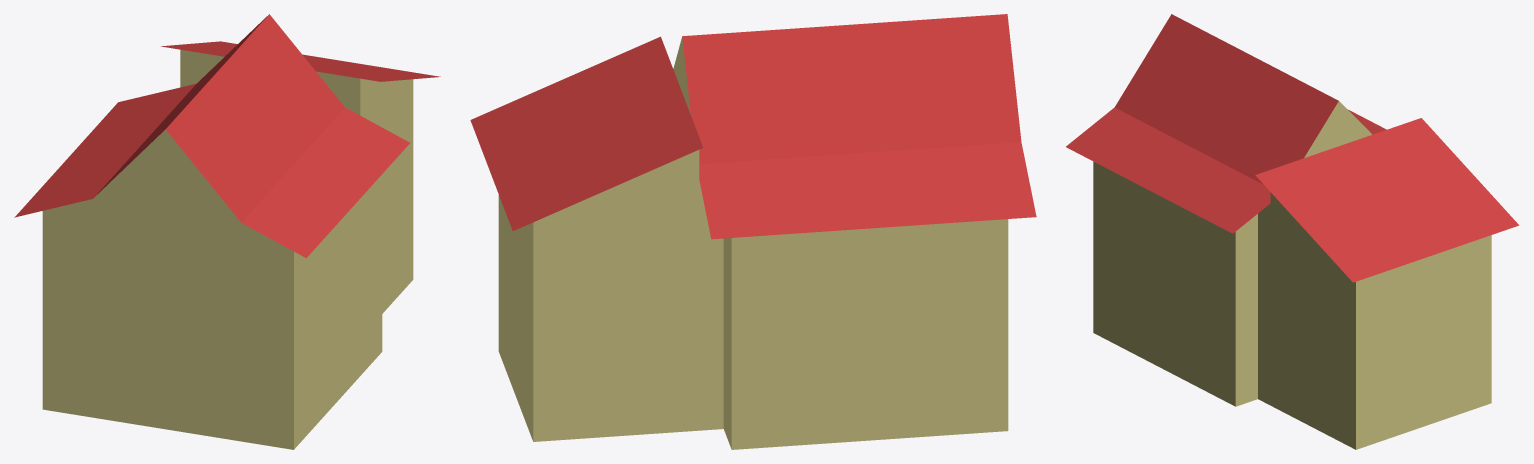
3 views of the same model, side by side, from view 1: azimuth 30°, elevation 25°; view 2: azimuth 150°, elevation 25°; view 3: azimuth 270°, elevation 25° (orthographic). The views are drawn at different scales.
Size of the model in its own units: 12.29 by 11.46 by 7.83.
